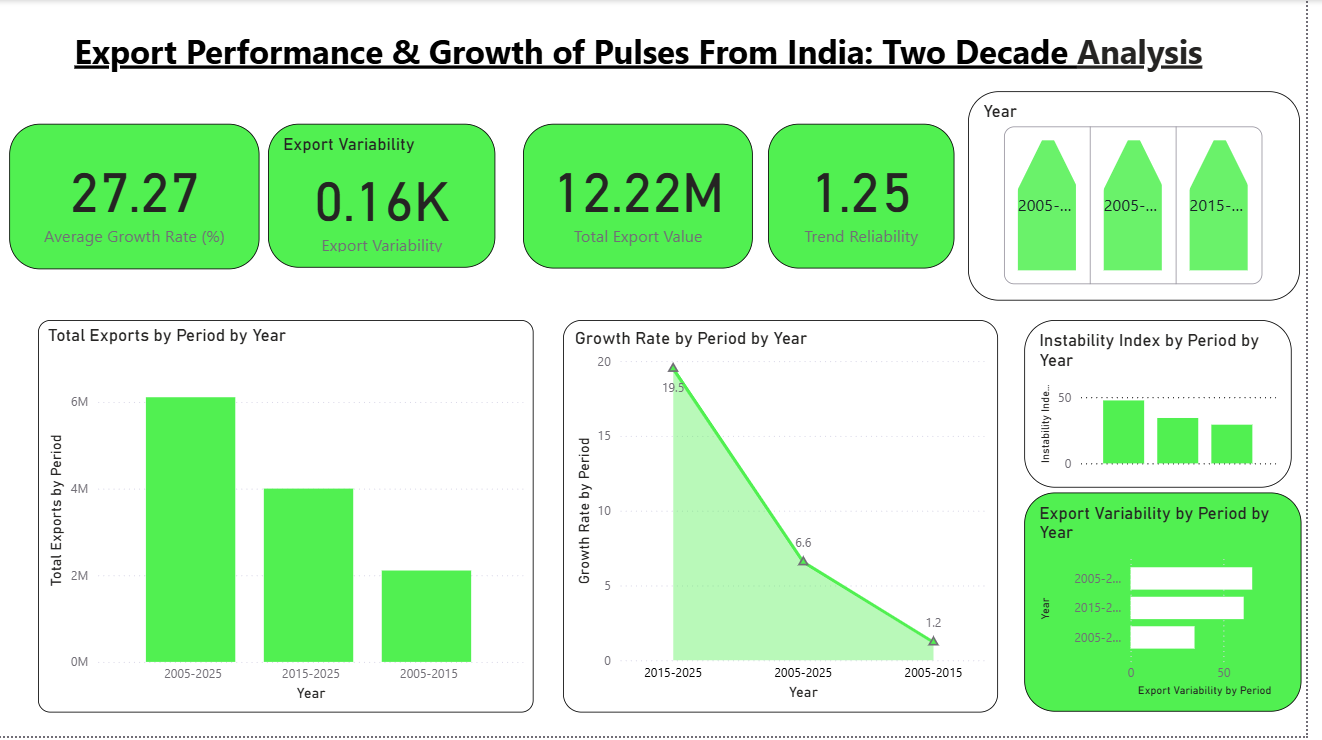

The dashboard page shown, as its layout file describes it:
{"tool":"powerbi","page":{"name":"Page 1","canvas":[1280,720],"ordinal":0},"visuals":[{"type":"card","fields":{"Values":["Sum(Variation.CGR)"]},"box":[10.6,121.1,244.5,142.2],"z":0},{"type":"card","title":"Export Variability","fields":{"Values":["Sum(Variation.CV)"]},"box":[264.5,121.1,251.6,141.1],"z":2000},{"type":"card","fields":{"Values":["Sum(Variation.Total )"]},"box":[526.7,121.1,225.7,142.2],"z":3000},{"type":"card","fields":{"Values":["Sum(Variation.RSQ)"]},"box":[766.5,121.1,182.2,142.2],"z":4000},{"type":"clusteredColumnChart","fields":{"Category":["Variation.Year"],"Y":["Sum(Variation.Total )"]},"box":[38.9,312.8,485.1,383.7],"z":5000},{"type":"lineChart","fields":{"Y":["Sum(Variation.CGR)"],"Category":["Variation.Year"]},"box":[553.3,312.8,425.4,383.7],"z":6000},{"type":"barChart","fields":{"Category":["Variation.Year"],"Y":["Sum(Variation.CV)"]},"box":[1003.7,482.4,271.1,214.1],"z":7000},{"type":"columnChart","fields":{"Category":["Variation.Year"],"Y":["Sum(Variation.Cuddy della)"]},"box":[1003.7,312.8,261.3,164],"z":8000},{"type":"textbox","box":[10.6,23.5,1230.9,70.5],"z":9000},{"type":"advancedSlicerVisual","fields":{"Values":["Variation.Year"]},"box":[949,89,324.6,205.1],"z":10000}]}

Visuals, with their boxes in screenshot pixels (x1, y1, x2, y2), scaled from the page's 1280x720 canvas onto the 1322x740 screenshot:
card - Sum(Variation.CGR): [left=11, top=124, right=263, bottom=271]
"Export Variability" card: [left=273, top=124, right=533, bottom=269]
card - Sum(Variation.Total ): [left=544, top=124, right=777, bottom=271]
card - Sum(Variation.RSQ): [left=792, top=124, right=980, bottom=271]
clusteredColumnChart - Variation.Year x Sum(Variation.Total ): [left=40, top=321, right=541, bottom=716]
lineChart - Sum(Variation.CGR) x Variation.Year: [left=571, top=321, right=1011, bottom=716]
barChart - Variation.Year x Sum(Variation.CV): [left=1037, top=496, right=1317, bottom=716]
columnChart - Variation.Year x Sum(Variation.Cuddy della): [left=1037, top=321, right=1307, bottom=490]
textbox: [left=11, top=24, right=1282, bottom=97]
advancedSlicerVisual - Variation.Year: [left=980, top=91, right=1315, bottom=302]
